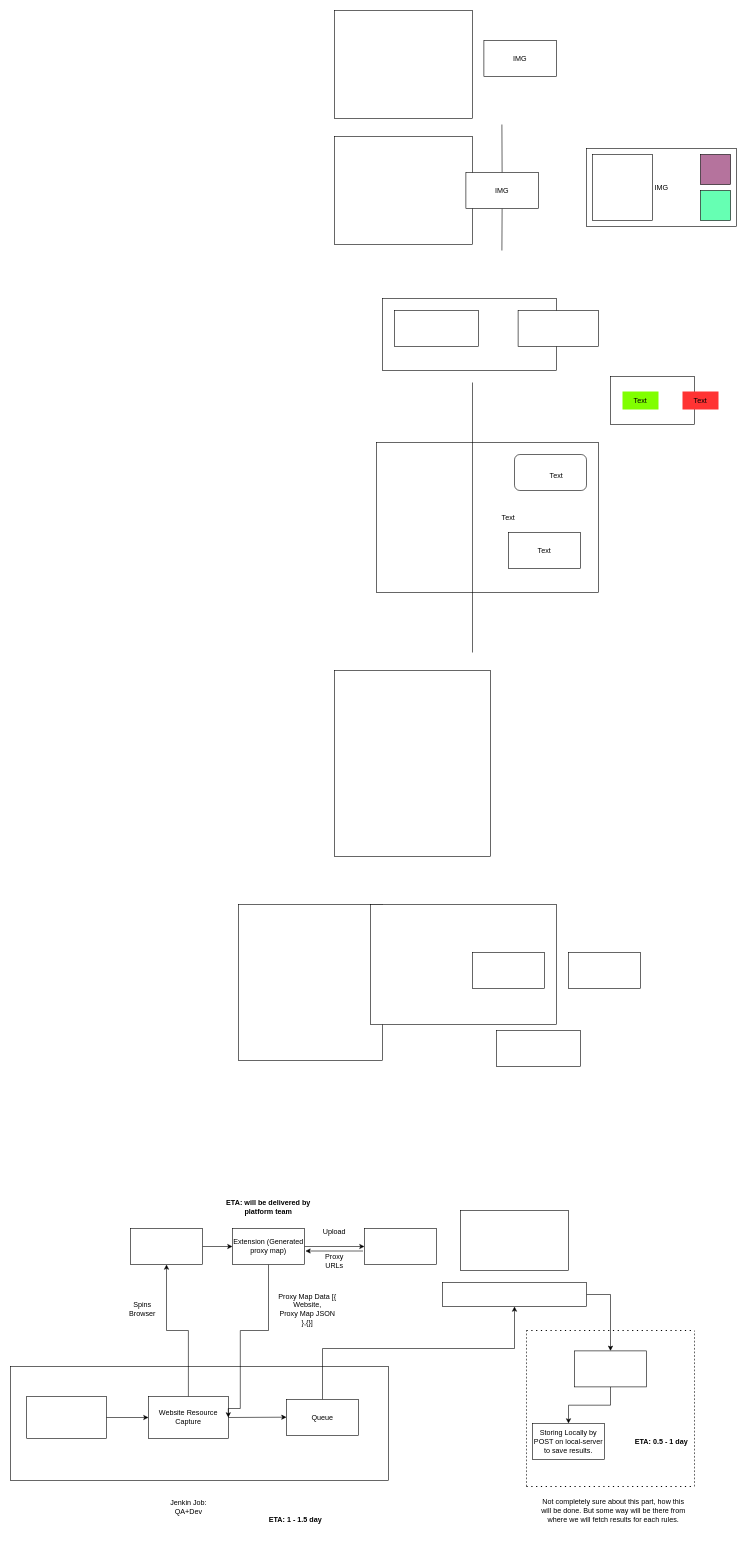
Image size: 747x1545. Some labels were removed from this diagram. The shapes that lost their labels are listed below. From the top down, each one's centre as x and y in pixels, then its label:
At (x=166, y=1246): "Launch Chrome (puppeteer)".
At (x=400, y=1246): "AWS S3".
At (x=514, y=1240): "Percy".
At (x=514, y=1294): "Percy Non-Production Queue".
At (x=610, y=1368): "Service to get results for each website".
At (x=66, y=1417): "Input From UI".
